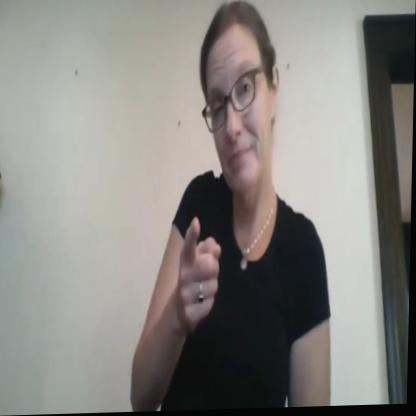HowAreYou: (169, 207, 270, 363)
